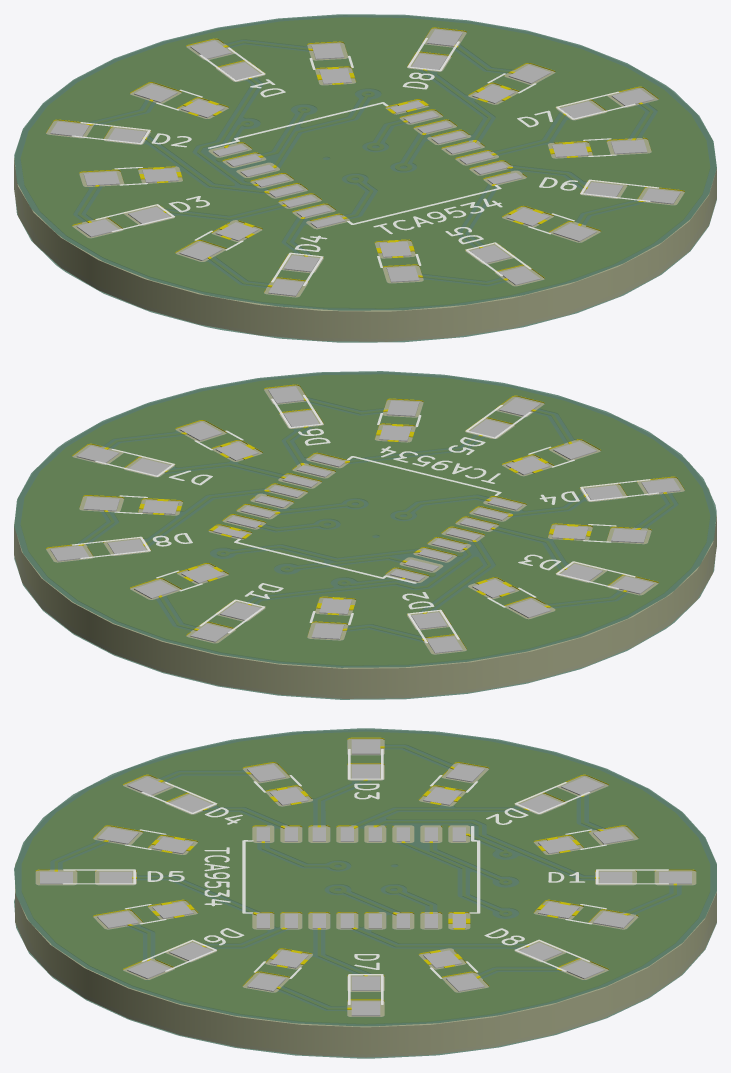
The model's file is blinky-addon-bornhack-2018-badge-breakout-board.glb.
3 views of the same model, one above another, from view 1: azimuth 30°, elevation 25°; view 2: azimuth 150°, elevation 25°; view 3: azimuth 270°, elevation 25° (orthographic).
Parts seen in each view (by area): view 1: =>[0:1:1:7], =>[0:1:1:2], =>[0:1:1:9], =>[0:1:1:5]; view 2: =>[0:1:1:7], =>[0:1:1:2], =>[0:1:1:9], =>[0:1:1:5]; view 3: =>[0:1:1:7], =>[0:1:1:2], =>[0:1:1:9], =>[0:1:1:5].
Boxes of the visible parts, x1,y1,x2,y2 form: =>[0:1:1:7]: (14, 14, 716, 342); =>[0:1:1:2]: (21, 18, 709, 308); =>[0:1:1:9]: (14, 15, 716, 341); =>[0:1:1:5]: (72, 38, 658, 285); =>[0:1:1:7]: (14, 371, 716, 699); =>[0:1:1:2]: (21, 375, 709, 665); =>[0:1:1:9]: (14, 373, 716, 698); =>[0:1:1:5]: (72, 395, 658, 643); =>[0:1:1:7]: (14, 728, 716, 1058); =>[0:1:1:2]: (22, 732, 709, 1023); =>[0:1:1:9]: (15, 730, 716, 1057); =>[0:1:1:5]: (63, 749, 668, 1004).
Bounding box in the file's own units: 0.032 × 0.00166 × 0.0319.
4 materials, 4 textured.
